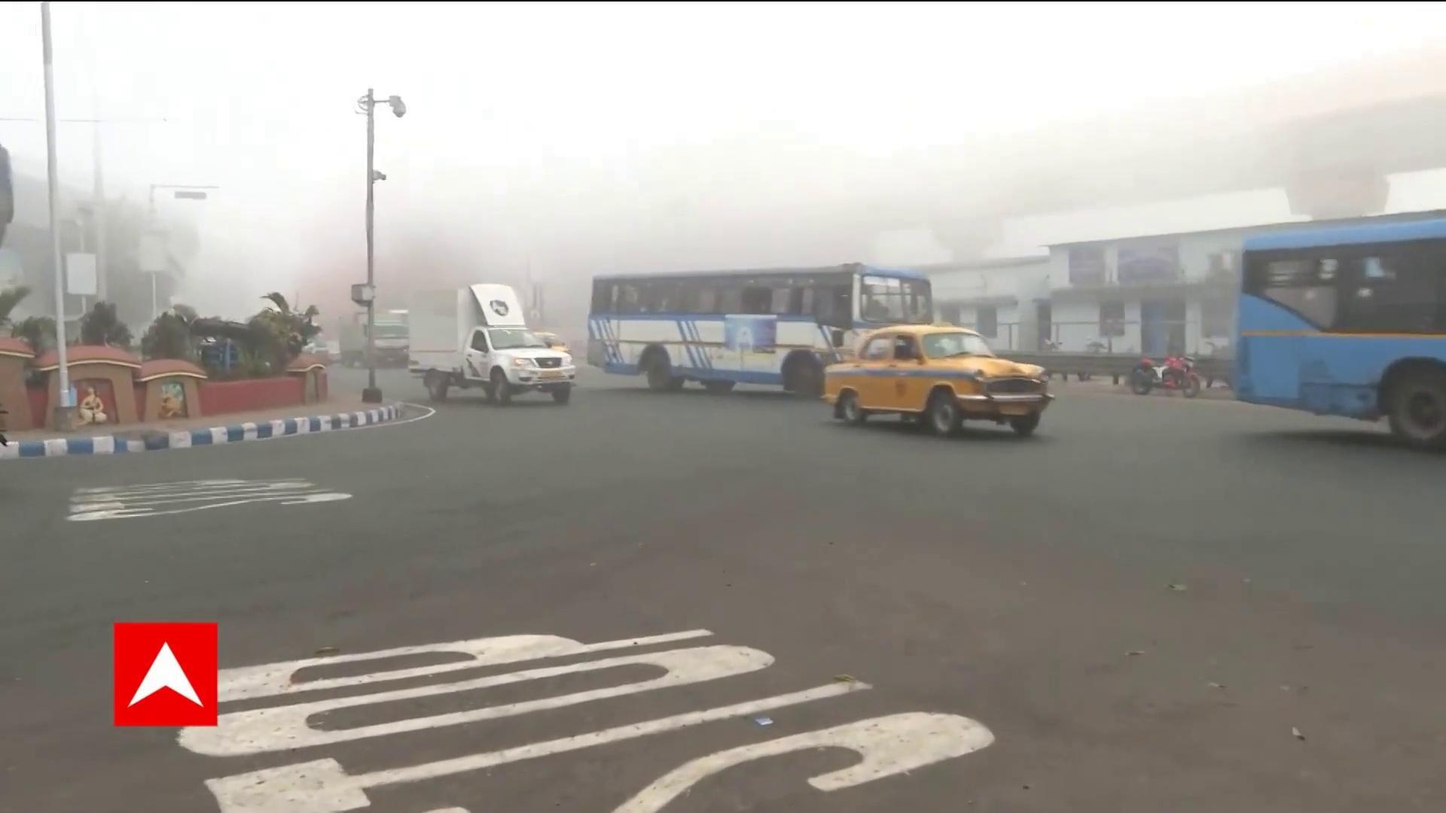Bus: (1230, 204, 1446, 443), (586, 261, 938, 396)
Car: (824, 321, 1044, 428)
Truck: (403, 285, 578, 400)
